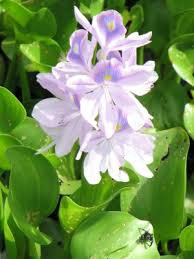water_hyacinth: (1, 1, 193, 258)
